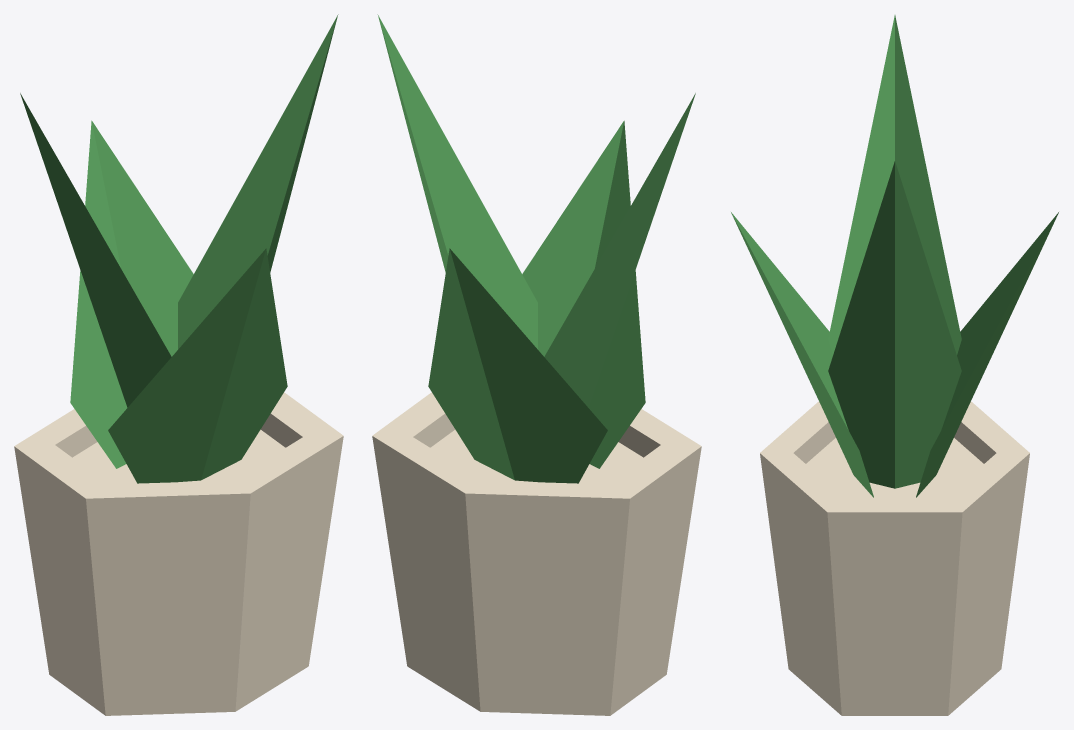
Rendered from floor-palm.glb.
The picture shows the model from 3 angles, left to right: view 1: azimuth 30°, elevation 25°; view 2: azimuth 150°, elevation 25°; view 3: azimuth 270°, elevation 25°; orthographic projection. The views are drawn at different scales.
Parts seen in each view (by area): view 1: vendor-cream, vendor-leaf; view 2: vendor-cream, vendor-leaf; view 3: vendor-cream, vendor-leaf.
Boxes of the visible parts, box(x1,y1,x2,y2) form: vendor-cream: box(14, 392, 343, 715); vendor-leaf: box(20, 14, 338, 483); vendor-cream: box(372, 392, 701, 715); vendor-leaf: box(377, 14, 695, 483); vendor-cream: box(760, 401, 1029, 715); vendor-leaf: box(731, 15, 1058, 497).
Bounding box in the file's own units: 1.31 × 2.42 × 1.24.
1 material, 1 textured.
